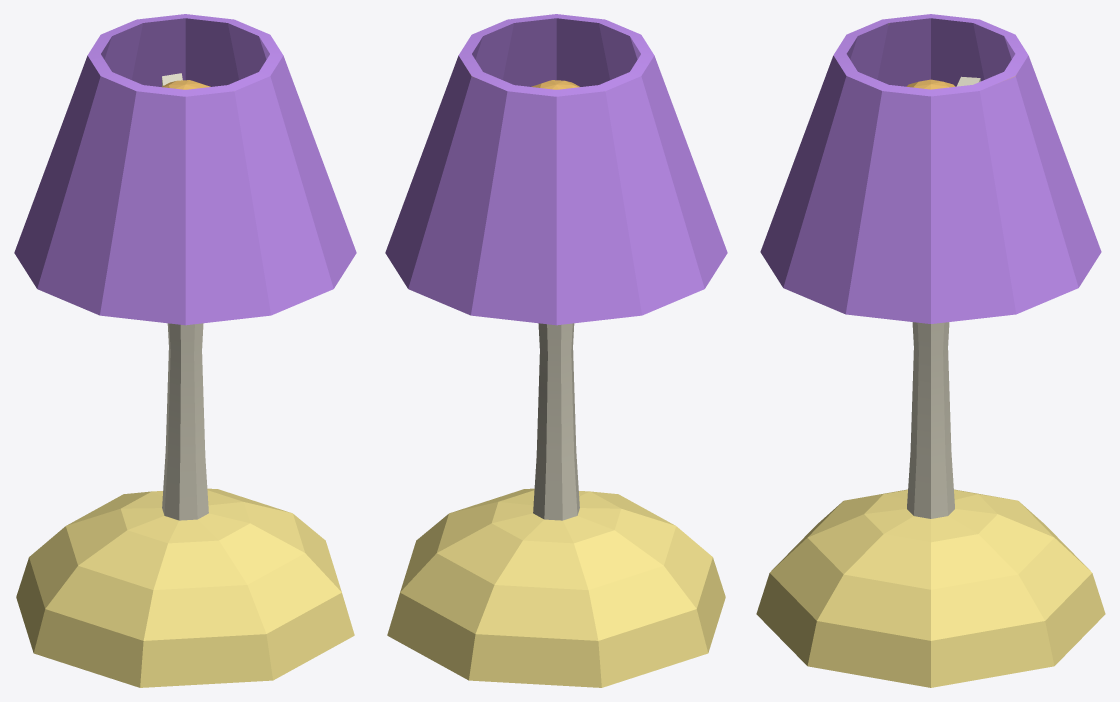
Rendered from LampSmall.fbx.
The picture shows the model from 3 angles, left to right: view 1: azimuth 30°, elevation 25°; view 2: azimuth 150°, elevation 25°; view 3: azimuth 270°, elevation 25°; orthographic projection.
Parts seen in each view (by area): view 1: Lamp; view 2: Lamp; view 3: Lamp.
Boxes of the visible parts, left/top/right/bottom form: Lamp: left=14, top=14, right=356, bottom=687; Lamp: left=385, top=14, right=727, bottom=687; Lamp: left=756, top=14, right=1105, bottom=687.
Size of the model in its own units: 34.35 by 60.79 by 34.35.
1 material, 1 textured.
